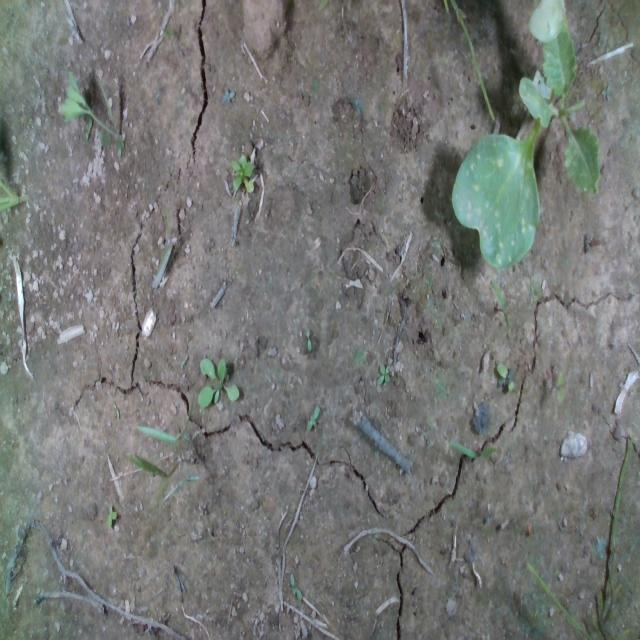weed: (371, 359, 397, 387)
